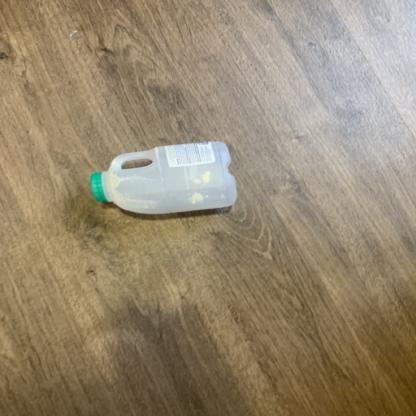trash: (83, 141, 244, 214)
